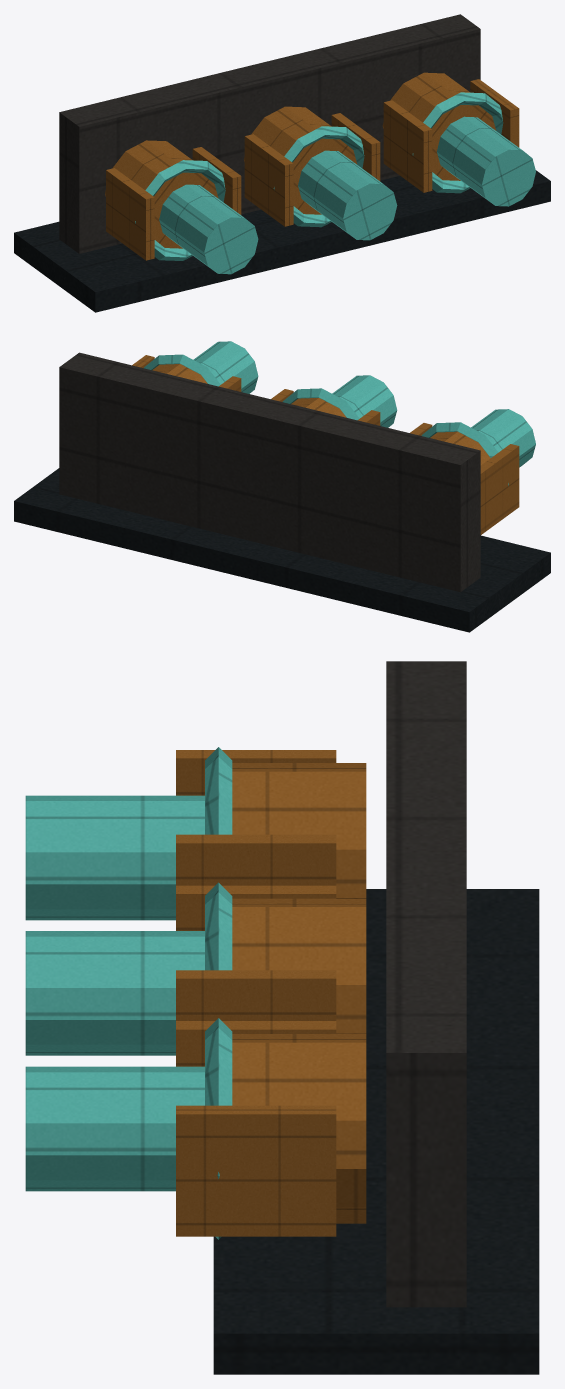
File: engine-glow-cruise.e10.glb
3 renders of one model, top to bottom at view 1: azimuth 30°, elevation 25°; view 2: azimuth 150°, elevation 25°; view 3: azimuth 270°, elevation 25°, orthographic. The views are drawn at different scales.
Parts seen in each view (by area): view 1: EngineGlowCruiseE10; view 2: EngineGlowCruiseE10; view 3: EngineGlowCruiseE10.
Boxes of the visible parts, box(x1,y1,x2,y2) form: EngineGlowCruiseE10: box(14, 14, 550, 312); EngineGlowCruiseE10: box(14, 341, 550, 632); EngineGlowCruiseE10: box(25, 661, 539, 1374).
Bounding box in the file's own units: 4.2 × 1.3 × 2.05.
Materials: 1 (1 with a texture image).
